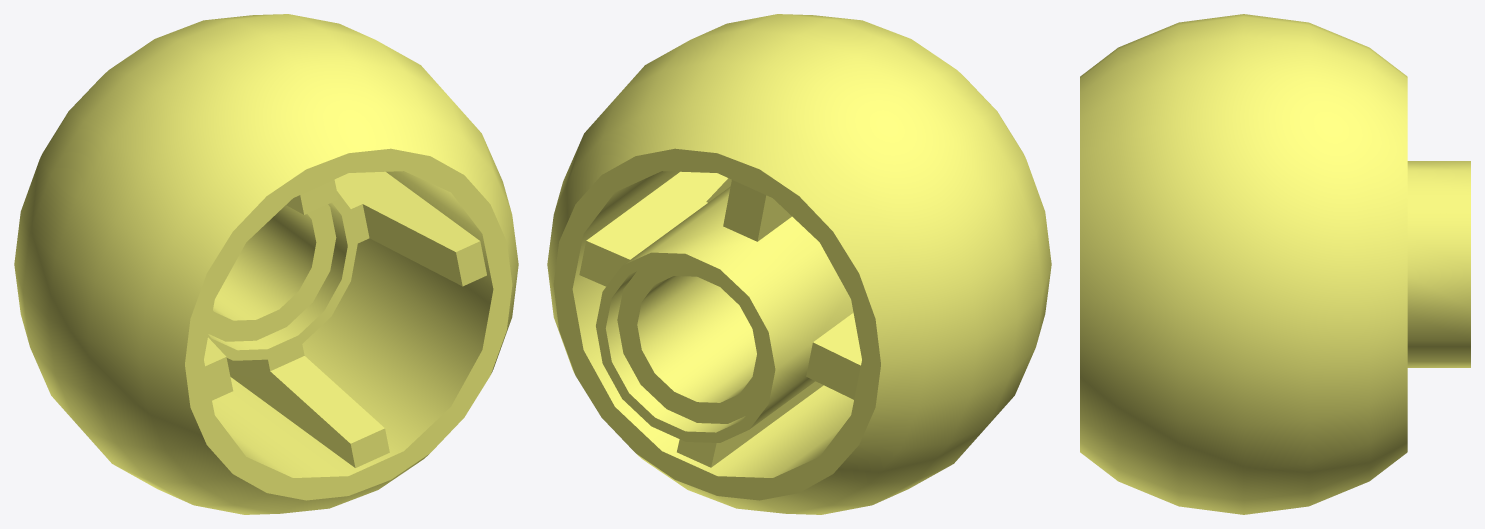
The picture shows the model from 3 angles, left to right: view 1: azimuth 30°, elevation 25°; view 2: azimuth 150°, elevation 25°; view 3: azimuth 270°, elevation 25°; orthographic projection.
Parts seen in each view (by area): view 1: 55889.dat; view 2: 55889.dat; view 3: 55889.dat.
Boxes of the visible parts, x1,y1,x2,y2 form: 55889.dat: (14,14,518,514); 55889.dat: (547,14,1051,514); 55889.dat: (1080,14,1470,514).
Bounding box in the file's own units: 0.0175 × 0.0175 × 0.0136.
